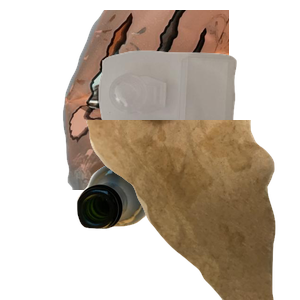glass: (74, 158, 223, 300)
metal: (60, 10, 300, 190)
plastic: (96, 48, 300, 179)
trash: (84, 120, 300, 300)
